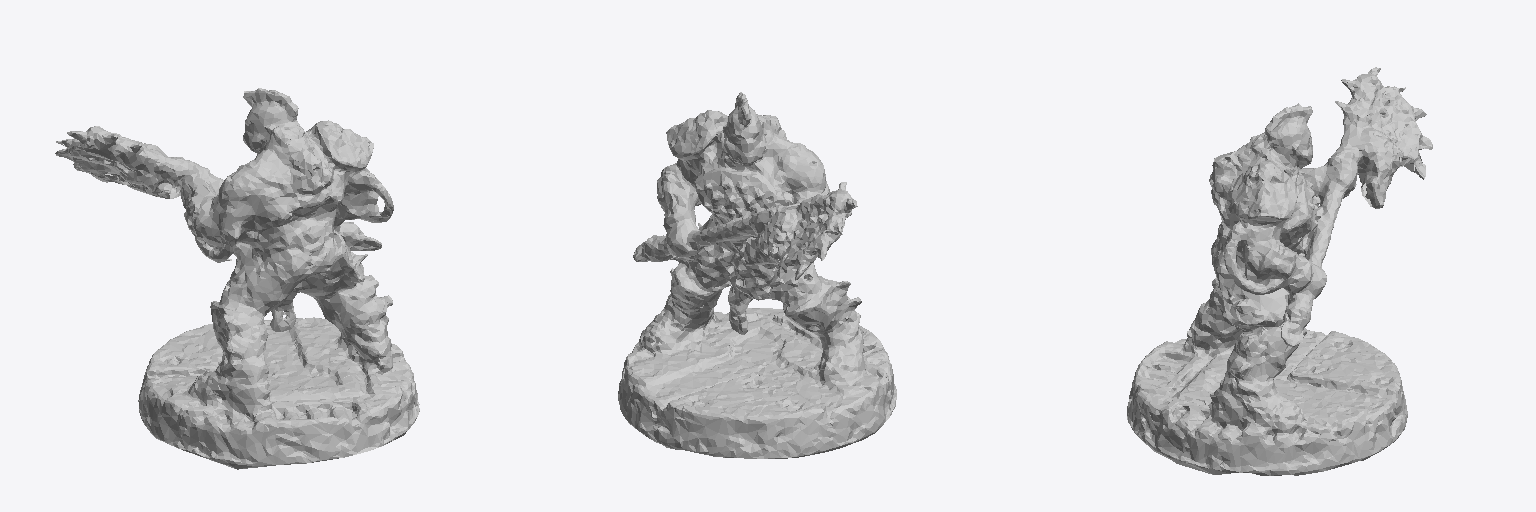
Rendered from Goliaths_6.obj.
3 renders of one model, left to right at view 1: azimuth 30°, elevation 25°; view 2: azimuth 150°, elevation 25°; view 3: azimuth 270°, elevation 25°, orthographic.
Visible parts, largest first — view 1: Goliaths_6_zephyr; view 2: Goliaths_6_zephyr; view 3: Goliaths_6_zephyr.
Part boxes in pixels (x1,y1,x2,y2): Goliaths_6_zephyr: (55, 88, 419, 469); Goliaths_6_zephyr: (618, 92, 896, 458); Goliaths_6_zephyr: (1127, 67, 1432, 475).
Bounding box in the file's own units: 1.43 × 1.57 × 1.37.